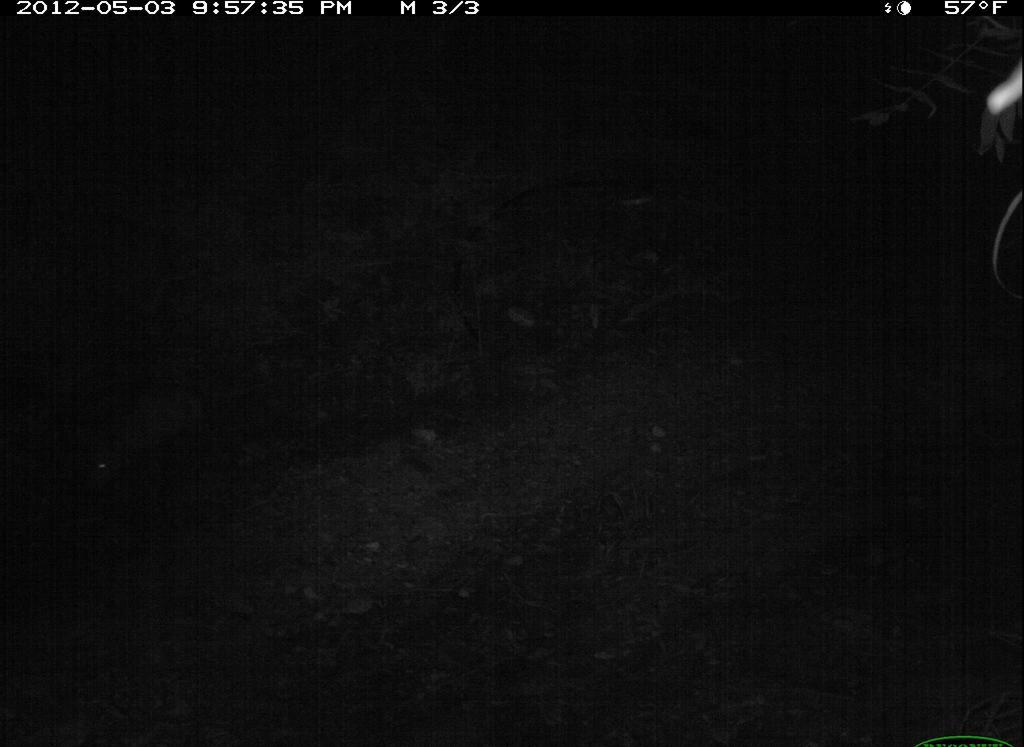opossum: (73, 364, 254, 495)
